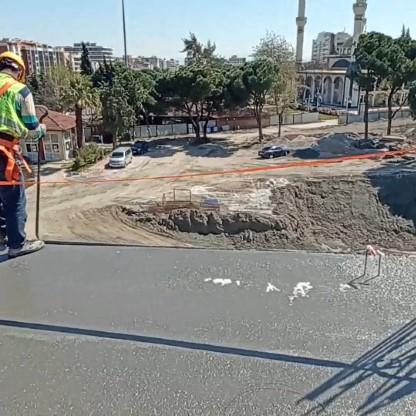helmet: (0, 48, 36, 97)
